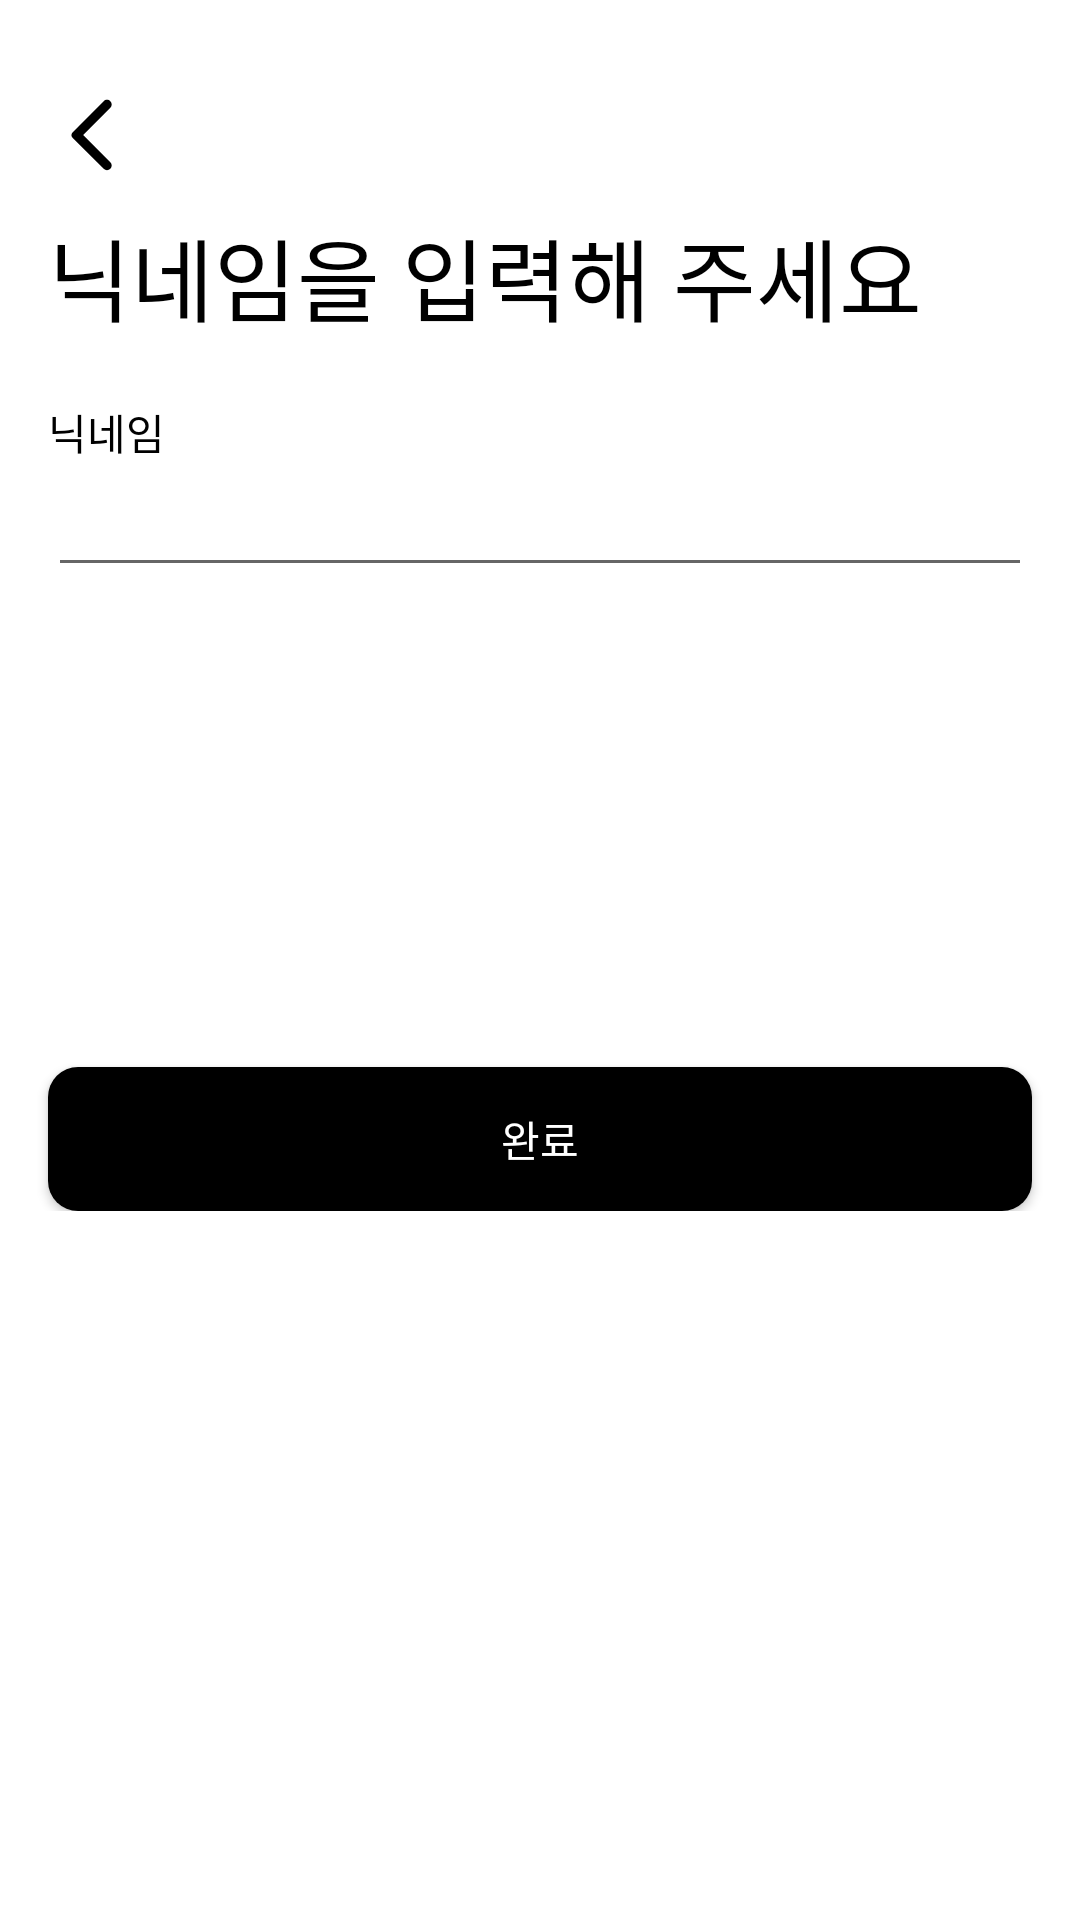

Icon bounding boxes for this 1080 × 1920 phone screenshot, format (x1, y1, x2, y2):
arrow back: (71, 99, 112, 171)
